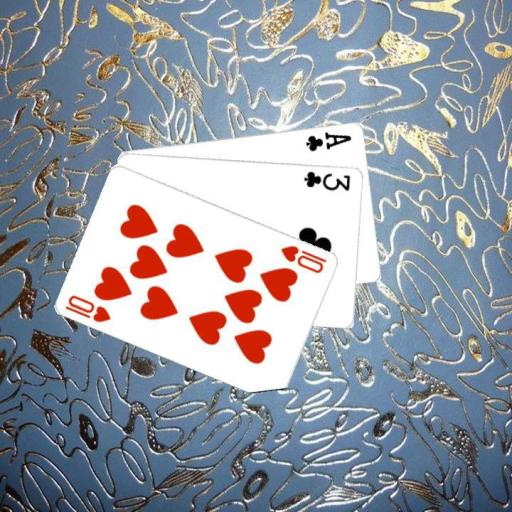10H: (278, 242, 329, 274), (63, 292, 113, 324)
3C: (302, 167, 352, 192)
AC: (303, 128, 353, 152)
